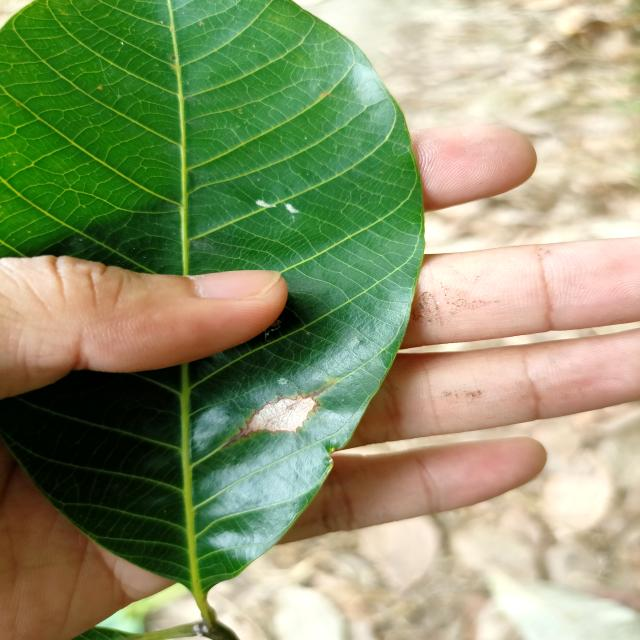Corynespora: (221, 384, 333, 449)
Leaf-Blight: (250, 396, 317, 432)
